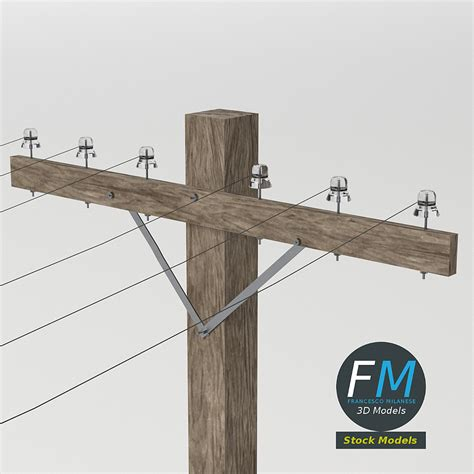pole: (4, 101, 474, 474)
